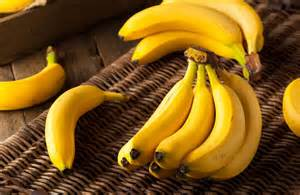banana: (180, 81, 245, 182), (43, 84, 111, 177), (123, 80, 190, 168), (152, 82, 216, 171), (116, 2, 246, 45), (129, 29, 250, 69), (1, 61, 69, 112)
